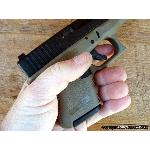Pistol: (16, 19, 132, 123)
